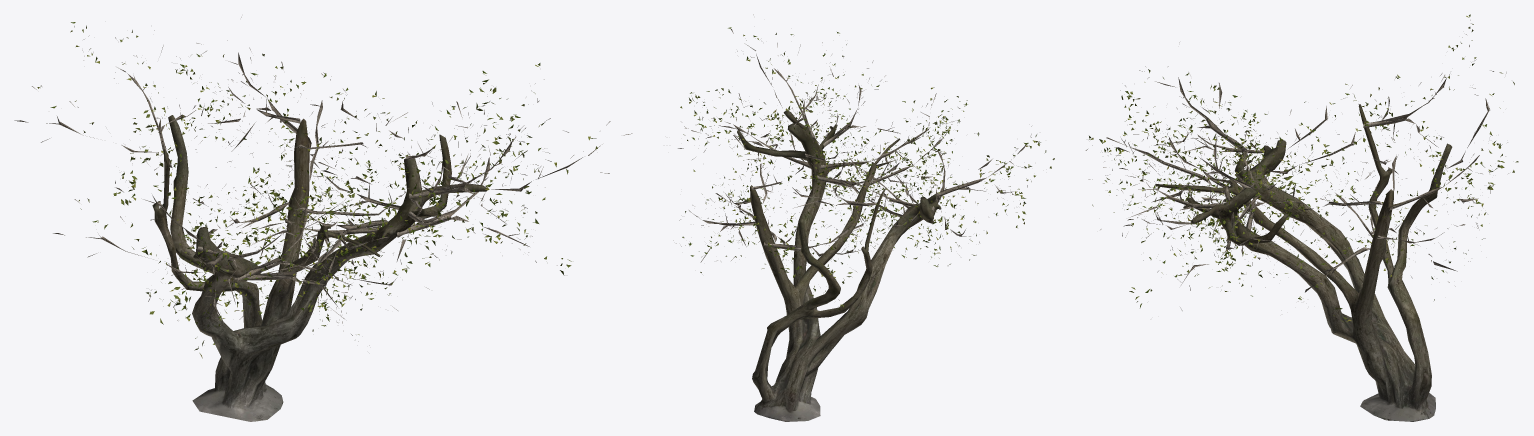
Rendered from island_tree_02.glb.
The picture shows the model from 3 angles, left to right: view 1: azimuth 30°, elevation 25°; view 2: azimuth 150°, elevation 25°; view 3: azimuth 270°, elevation 25°; orthographic projection. The views are drawn at different scales.
Visible parts, largest first — view 1: island_tree_02_LOD0; view 2: island_tree_02_LOD0; view 3: island_tree_02_LOD0.
Part boxes in pixels (x1,y1,x2,y2): island_tree_02_LOD0: (14,17,632,421); island_tree_02_LOD0: (673,14,1054,421); island_tree_02_LOD0: (1085,14,1518,421).
Size of the model in its own units: 4.21 by 3.39 by 3.98.
Materials: 3 (3 with a texture image).
